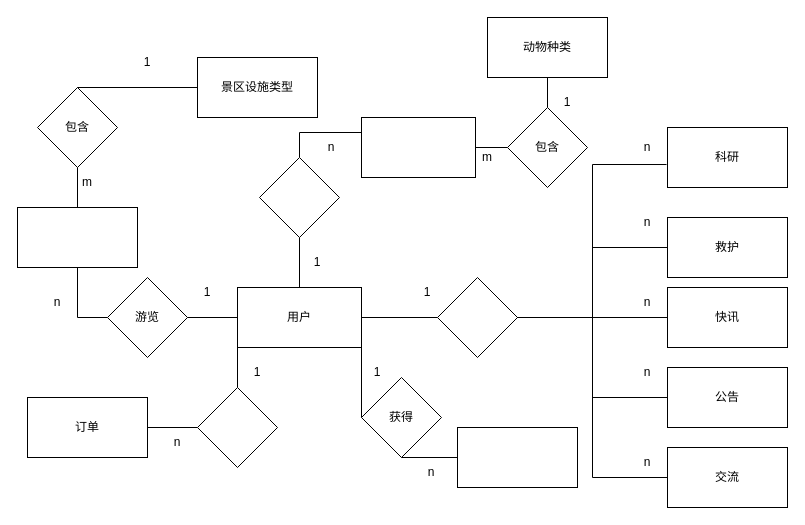
Some shapes in this 805 by 525 pixel diagram are drawn without their labels. The box of each missing label's shape, as (x1, y1, x2, y2) in pixels:
动物: (360, 116, 476, 178)
图鉴: (456, 426, 578, 488)
景区设施: (16, 206, 138, 268)
生成: (196, 386, 278, 468)
观赏: (258, 156, 340, 238)
阅读: (436, 276, 518, 358)
